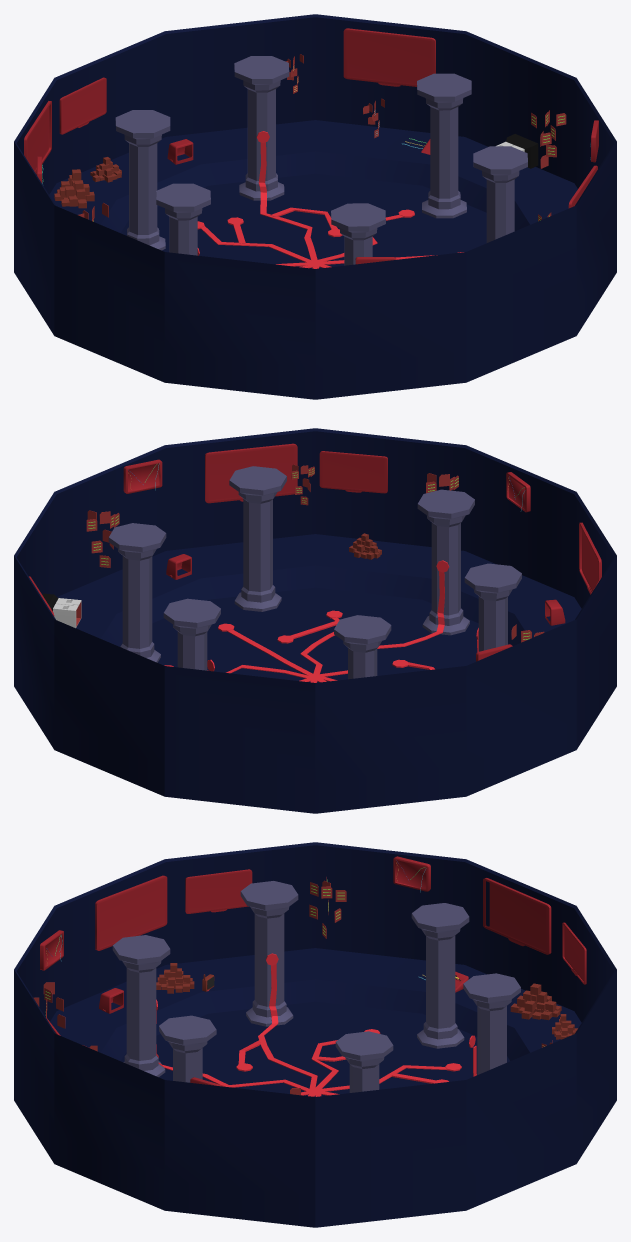
Rendered from Location final level CLEAN.fbx.
3 views of the same model, one above another, from view 1: azimuth 30°, elevation 25°; view 2: azimuth 150°, elevation 25°; view 3: azimuth 270°, elevation 25° (orthographic).
Parts seen in each view (by area): view 1: Cylinder, Cube.004, Cube.029, Cylinder.001, Cube.014, Cube.009, Cube.016, Cube.002, Cube.037, Cube.012; view 2: Cylinder, Cube.004, Cube.027, Cylinder.001, Cube.025, Cube.003, Cube.020, Cube.002, Cube.037, Cube.031, Cube.018; view 3: Cylinder, Cube.004, Cube.020, Cylinder.001, Cube.009, Cube.017, Cube.016, Cube.001, Cube.014, Cube.082, Cube.087, Cube.031.
Part boxes in pixels (bbox=[...]): Cylinder: bbox=[14, 14, 616, 399]; Cube.004: bbox=[115, 56, 527, 265]; Cube.029: bbox=[343, 28, 435, 86]; Cylinder.001: bbox=[197, 131, 463, 268]; Cube.014: bbox=[59, 77, 106, 134]; Cube.009: bbox=[24, 101, 51, 174]; Cube.016: bbox=[54, 169, 94, 208]; Cube.002: bbox=[531, 110, 566, 168]; Cube.037: bbox=[496, 134, 538, 168]; Cube.012: bbox=[90, 157, 121, 182]; Cylinder: bbox=[14, 428, 616, 813]; Cube.004: bbox=[108, 466, 521, 679]; Cube.027: bbox=[205, 443, 297, 503]; Cylinder.001: bbox=[164, 560, 478, 682]; Cube.025: bbox=[319, 451, 387, 493]; Cube.003: bbox=[123, 459, 162, 493]; Cube.020: bbox=[579, 522, 601, 594]; Cube.002: bbox=[86, 510, 119, 567]; Cube.037: bbox=[42, 593, 81, 628]; Cube.031: bbox=[506, 472, 530, 512]; Cube.018: bbox=[349, 533, 381, 559]; Cylinder: bbox=[14, 842, 616, 1227]; Cube.004: bbox=[112, 881, 520, 1092]; Cube.020: bbox=[95, 875, 167, 950]; Cylinder.001: bbox=[156, 953, 476, 1096]; Cube.009: bbox=[483, 878, 551, 954]; Cube.017: bbox=[185, 869, 252, 913]; Cube.016: bbox=[510, 983, 561, 1020]; Cube.001: bbox=[393, 856, 430, 892]; Cube.014: bbox=[562, 922, 586, 984]; Cube.082: bbox=[156, 963, 194, 993]; Cube.087: bbox=[309, 877, 346, 938]; Cube.031: bbox=[40, 930, 63, 970].
Size of the model in its own units: 7186 by 1733 by 7186.
